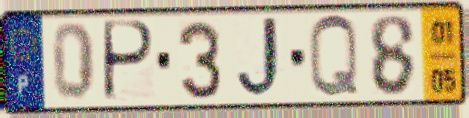0: (49, 19, 97, 106)
3: (175, 17, 223, 102)
8: (366, 13, 418, 98)
J: (234, 14, 288, 103)
P: (101, 18, 157, 105)
Q: (306, 12, 362, 103)
